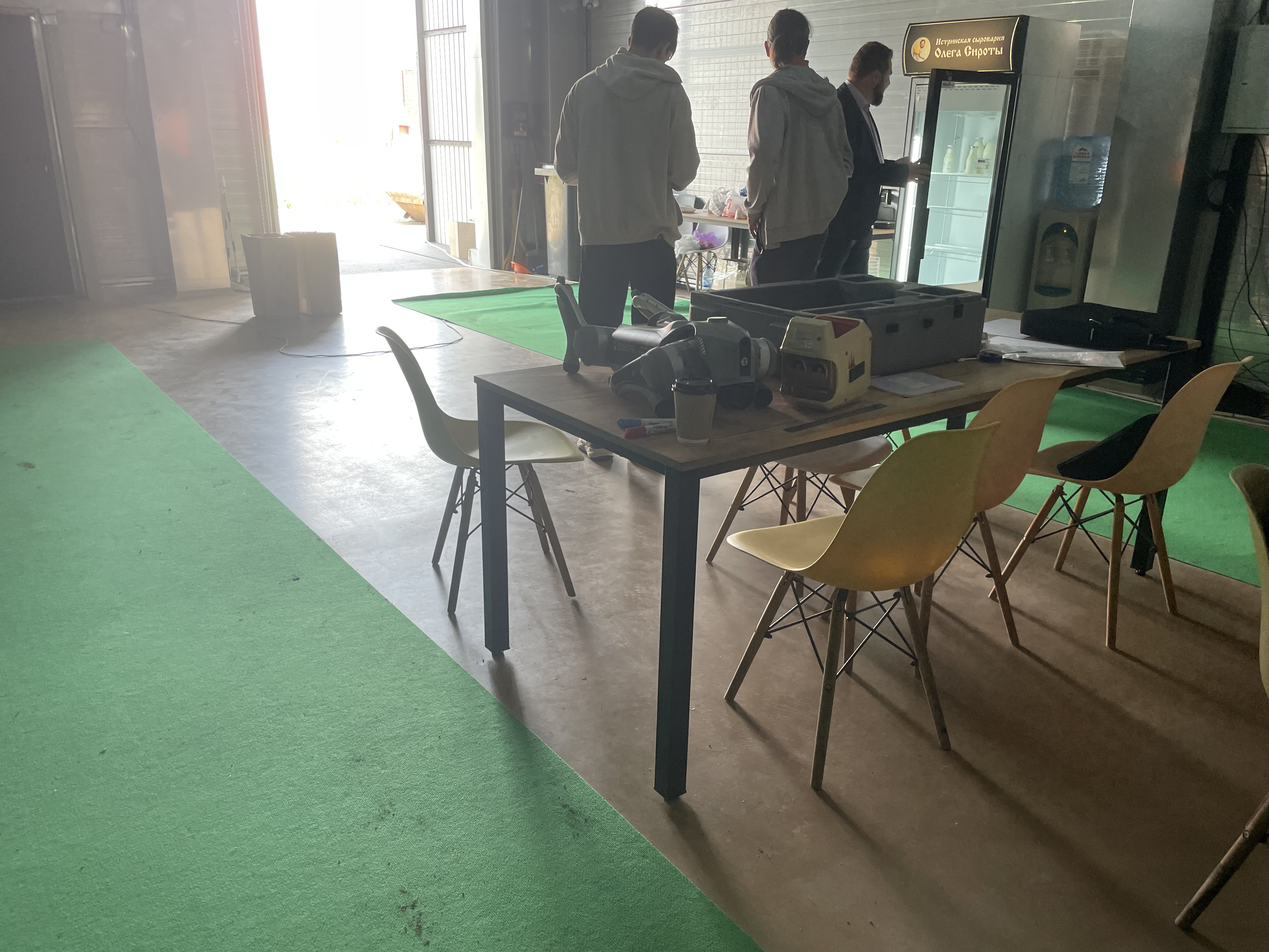cup: (671, 372, 719, 445)
